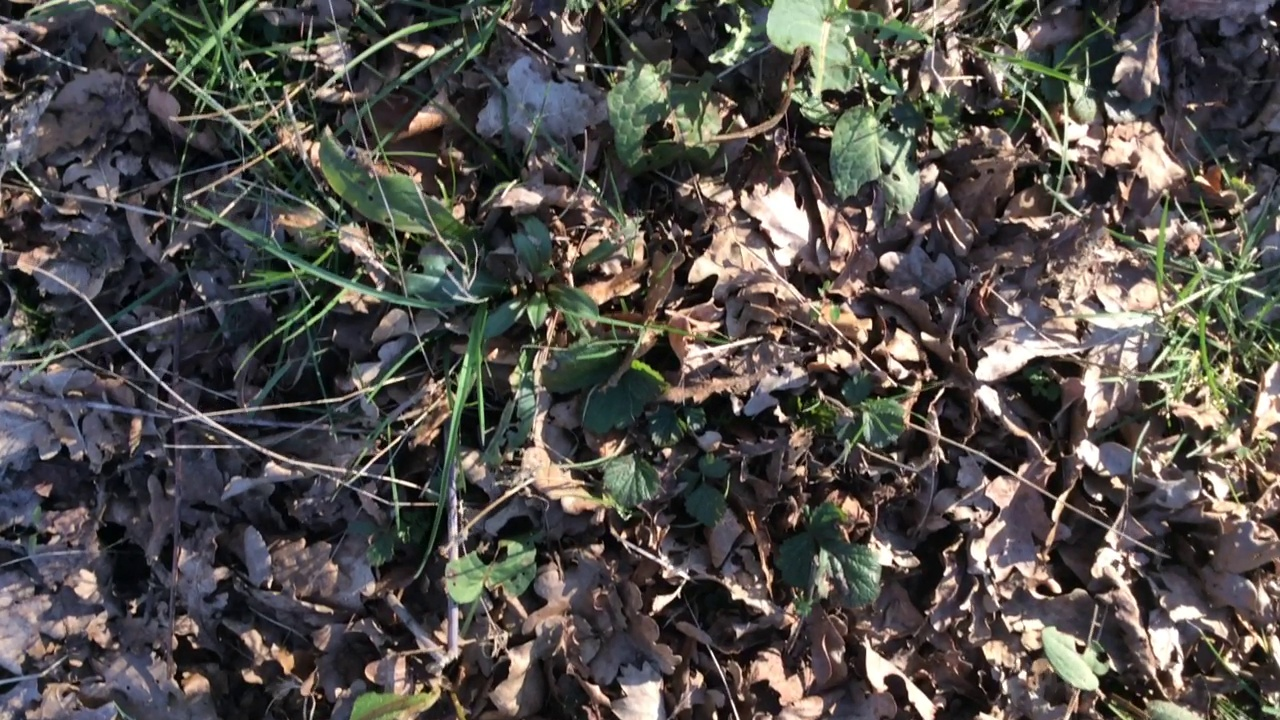rumex: (614, 1, 923, 224)
